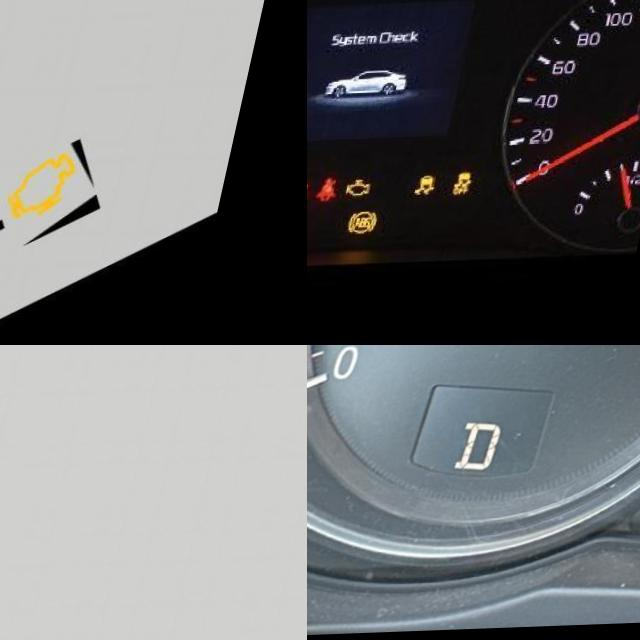Seat Belt: (335, 180, 360, 206)
